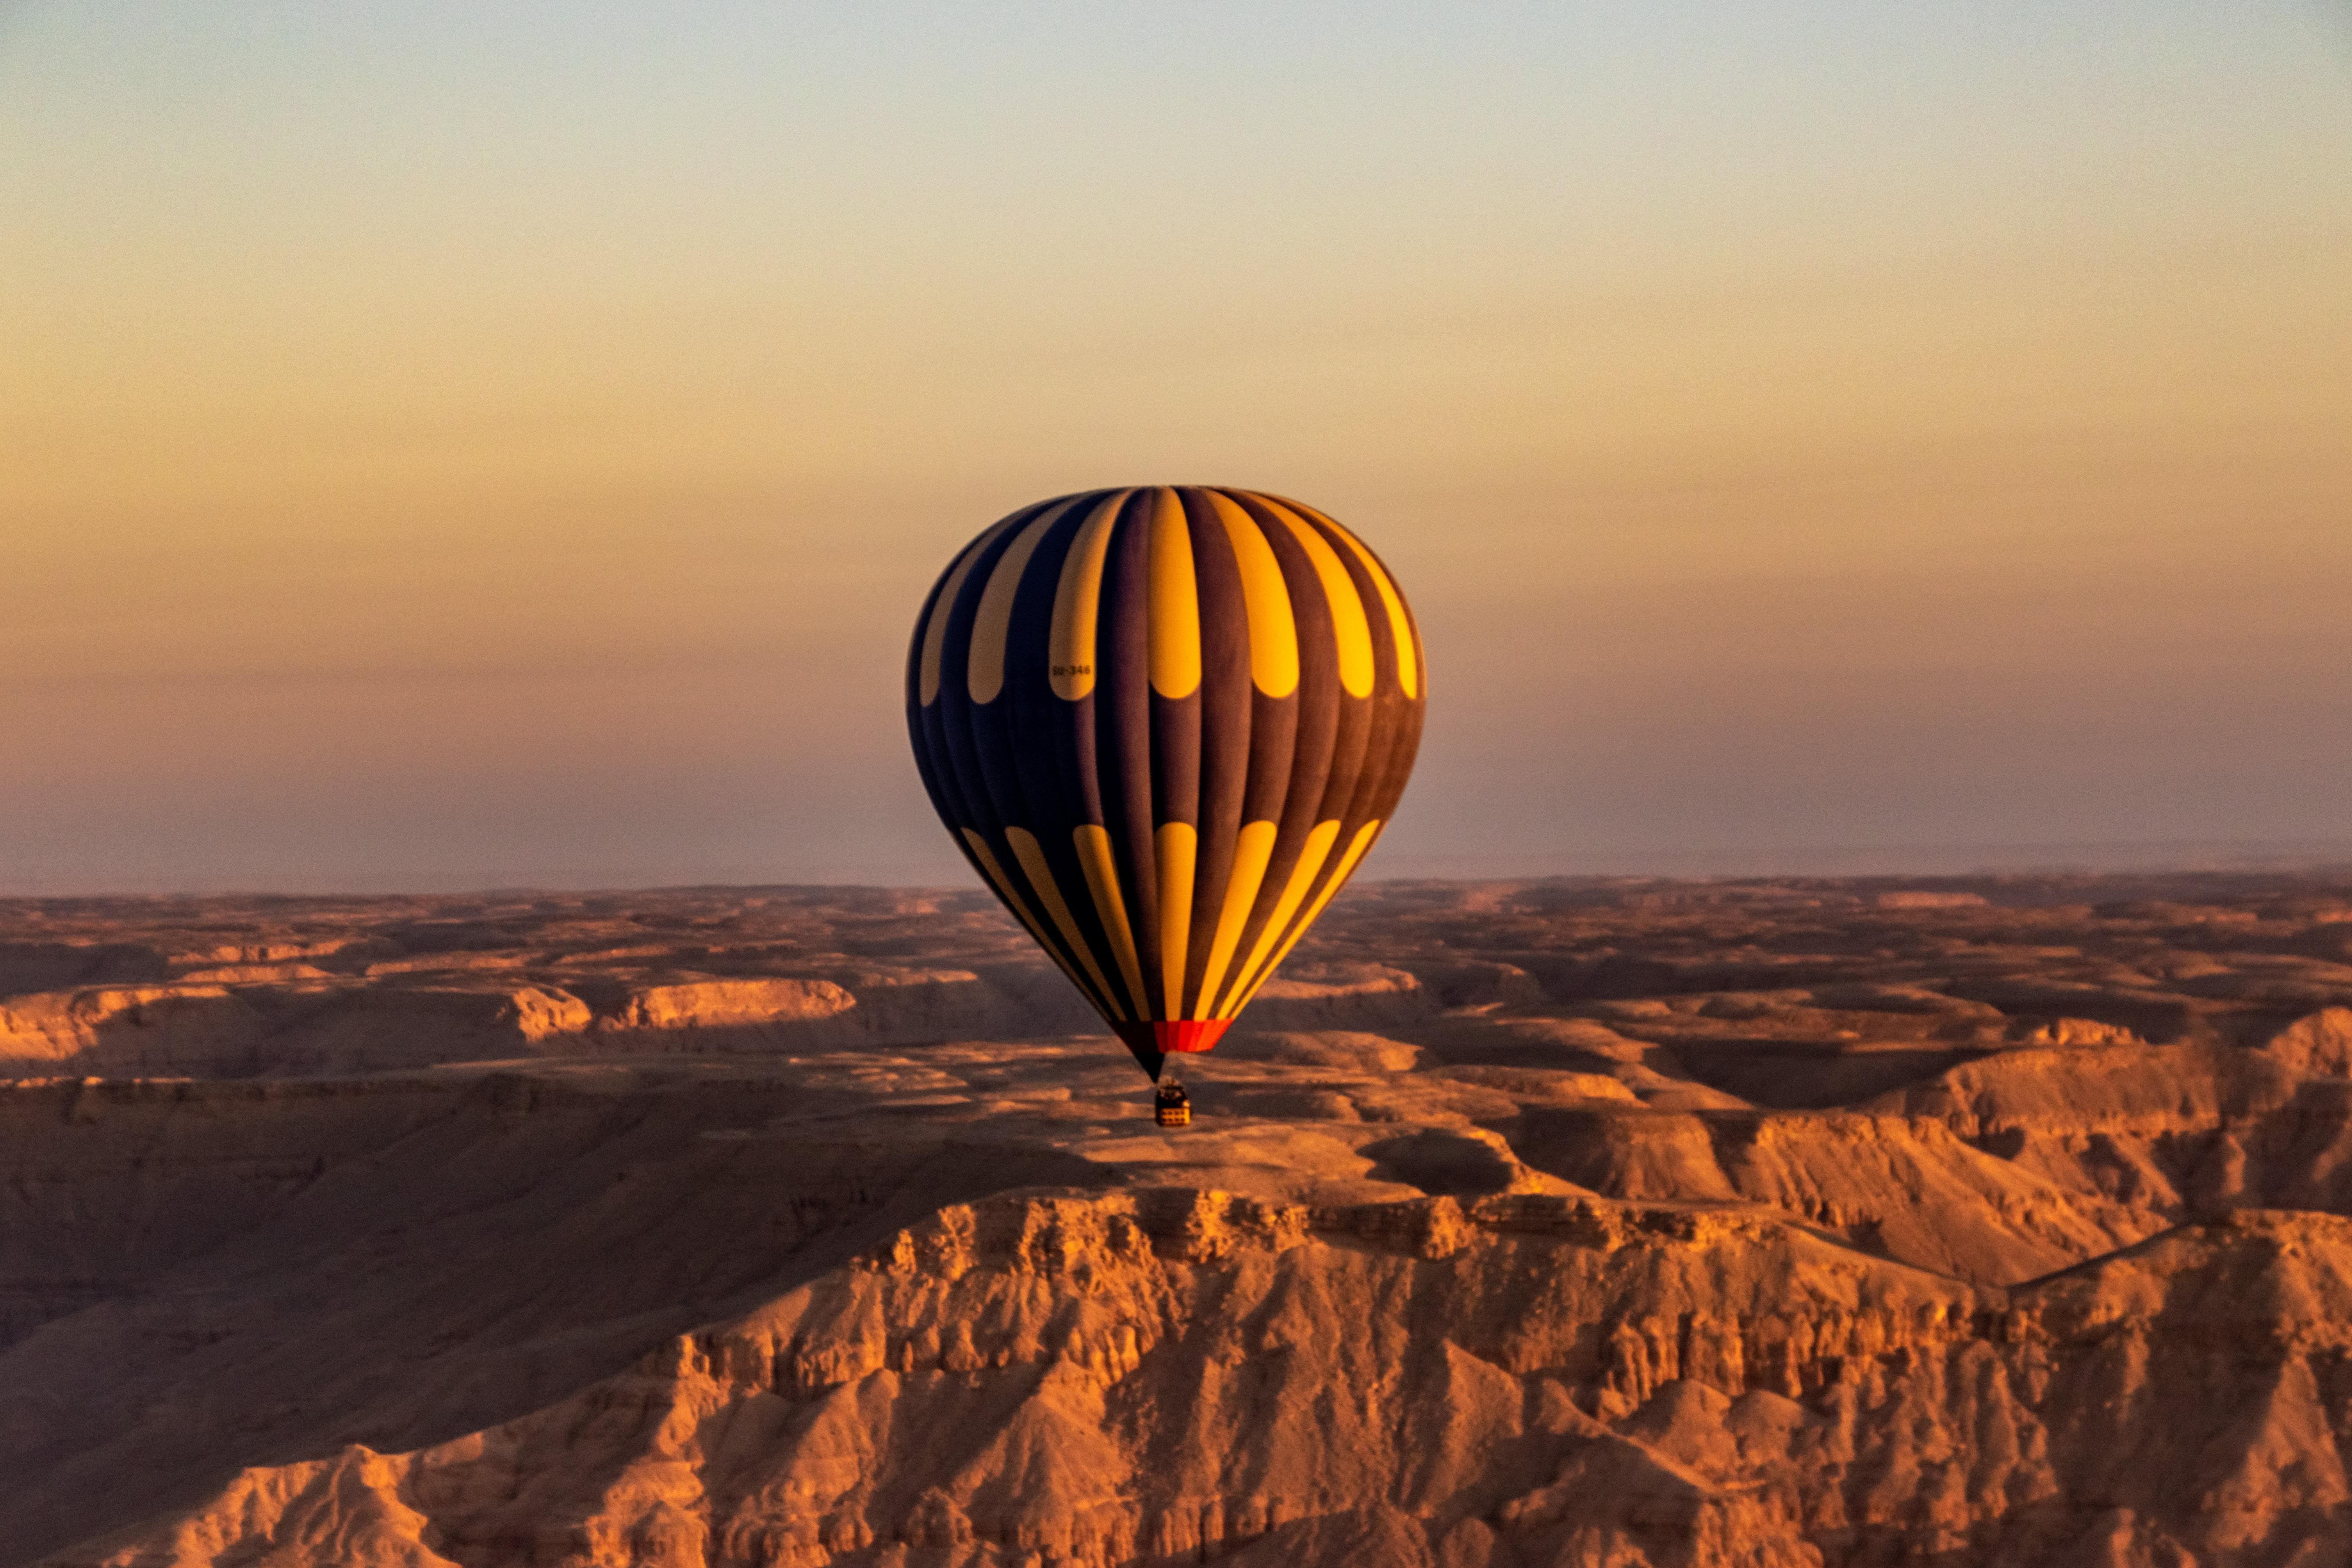hot air ballon: (903, 476, 1424, 1127)
